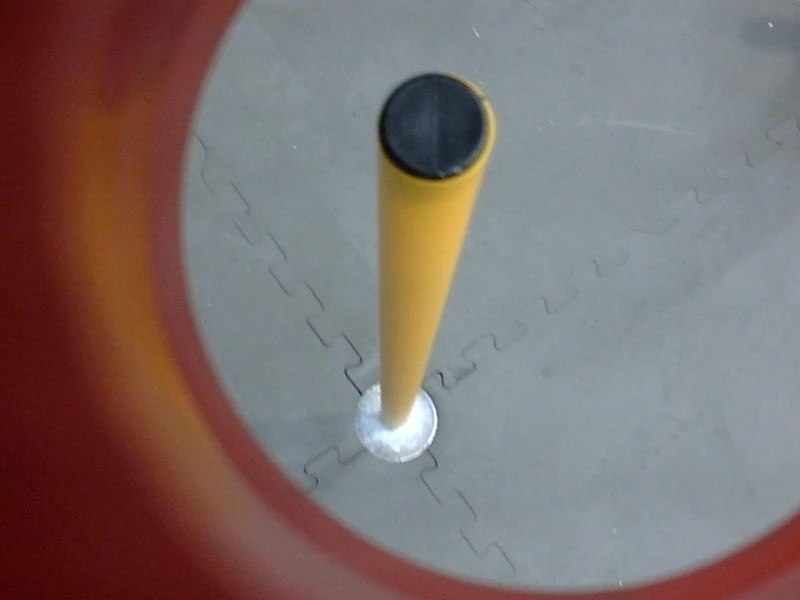tip: (370, 62, 501, 192)
